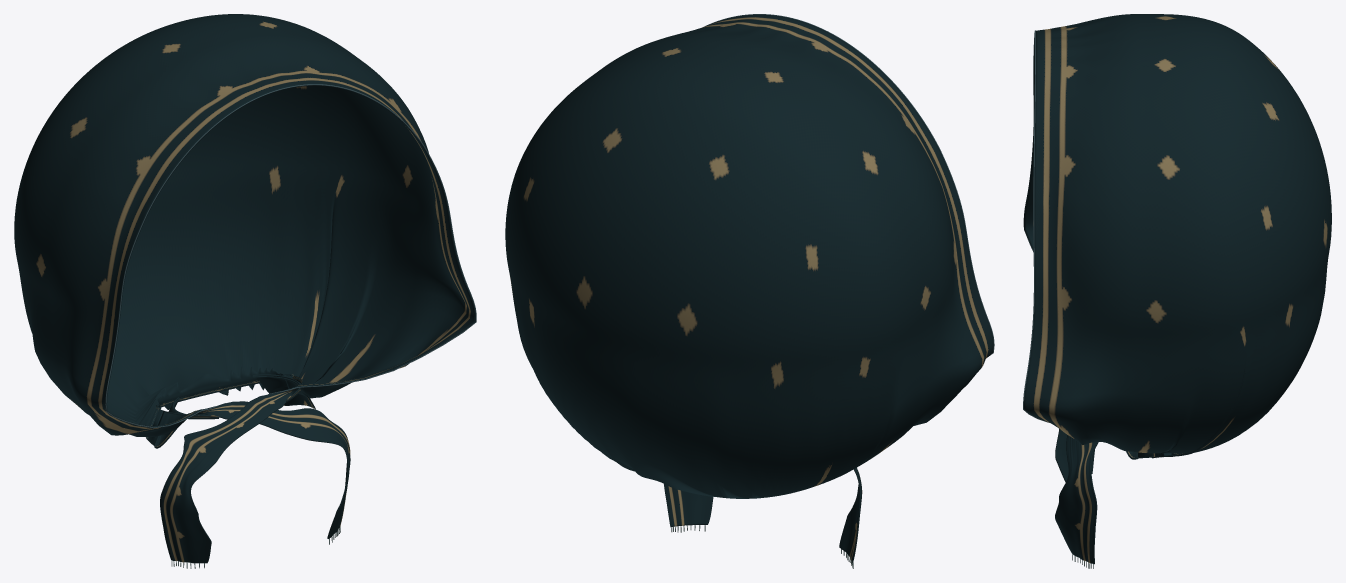
The model's file is Feminine-twin-braids-bandeau-pashmina250-headgear.glb.
3 views of the same model, side by side, from view 1: azimuth 30°, elevation 25°; view 2: azimuth 150°, elevation 25°; view 3: azimuth 270°, elevation 25° (orthographic). The views are drawn at different scales.
Visible parts, largest first — view 1: 226 headgear / Headwear / continuous woven pashmina239, 226 headgear / Headwear / face edge239; view 2: 226 headgear / Headwear / continuous woven pashmina239, 226 headgear / Headwear / face edge239; view 3: 226 headgear / Headwear / continuous woven pashmina239, 226 headgear / Headwear / face edge239.
Boxes of the visible parts, x1,y1,x2,y2 form: 226 headgear / Headwear / continuous woven pashmina239: (14, 14, 475, 563); 226 headgear / Headwear / face edge239: (105, 84, 476, 428); 226 headgear / Headwear / continuous woven pashmina239: (505, 14, 993, 562); 226 headgear / Headwear / face edge239: (704, 14, 994, 357); 226 headgear / Headwear / continuous woven pashmina239: (1023, 14, 1331, 564); 226 headgear / Headwear / face edge239: (1023, 30, 1049, 422).
Size of the model in its own units: 1.11 by 1.37 by 0.7781.
Materials: 3 (1 with a texture image).
